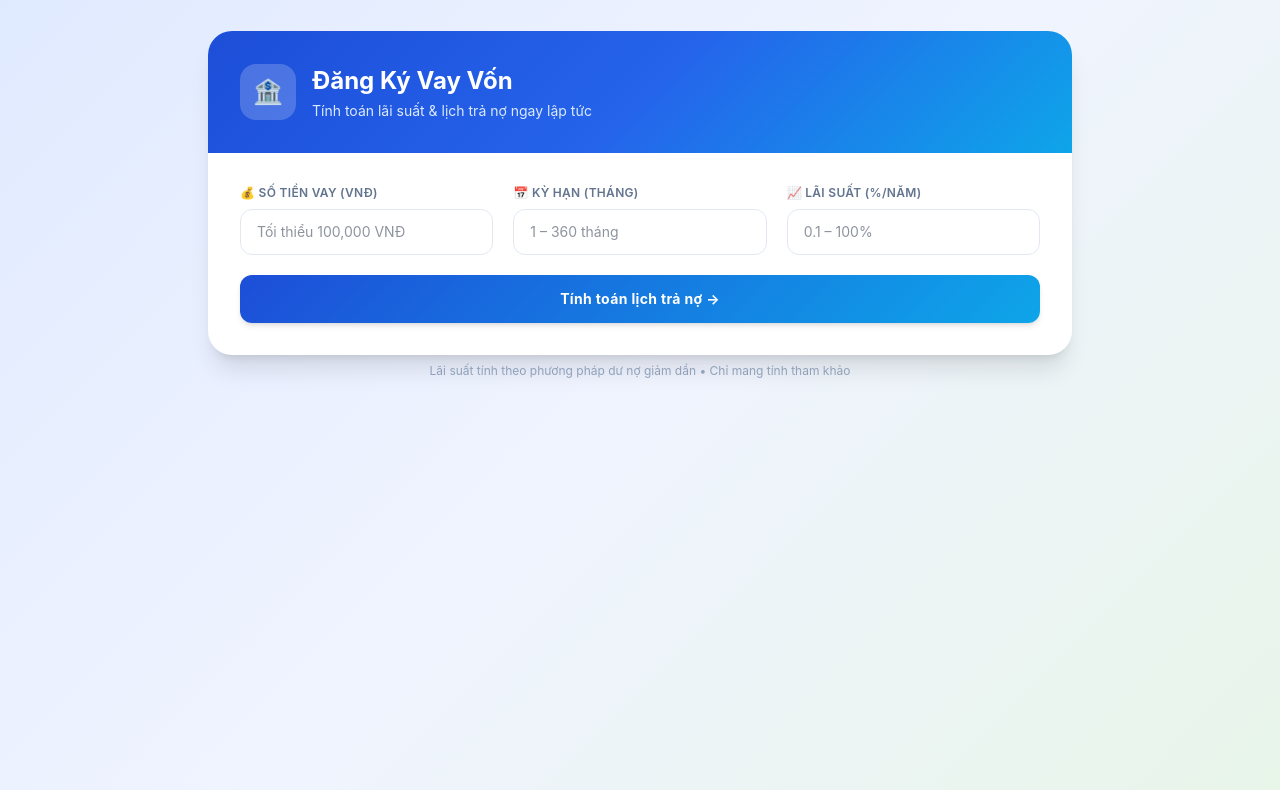
Test case: LoanRegistrationForm — schedule table › renders the payment schedule table after a valid submission
The image size is (1280, 790).
Type "12000000" into the field labelled "💰 Số tiền vay (VNĐ)" at (367, 232), box [240,209,493,255]
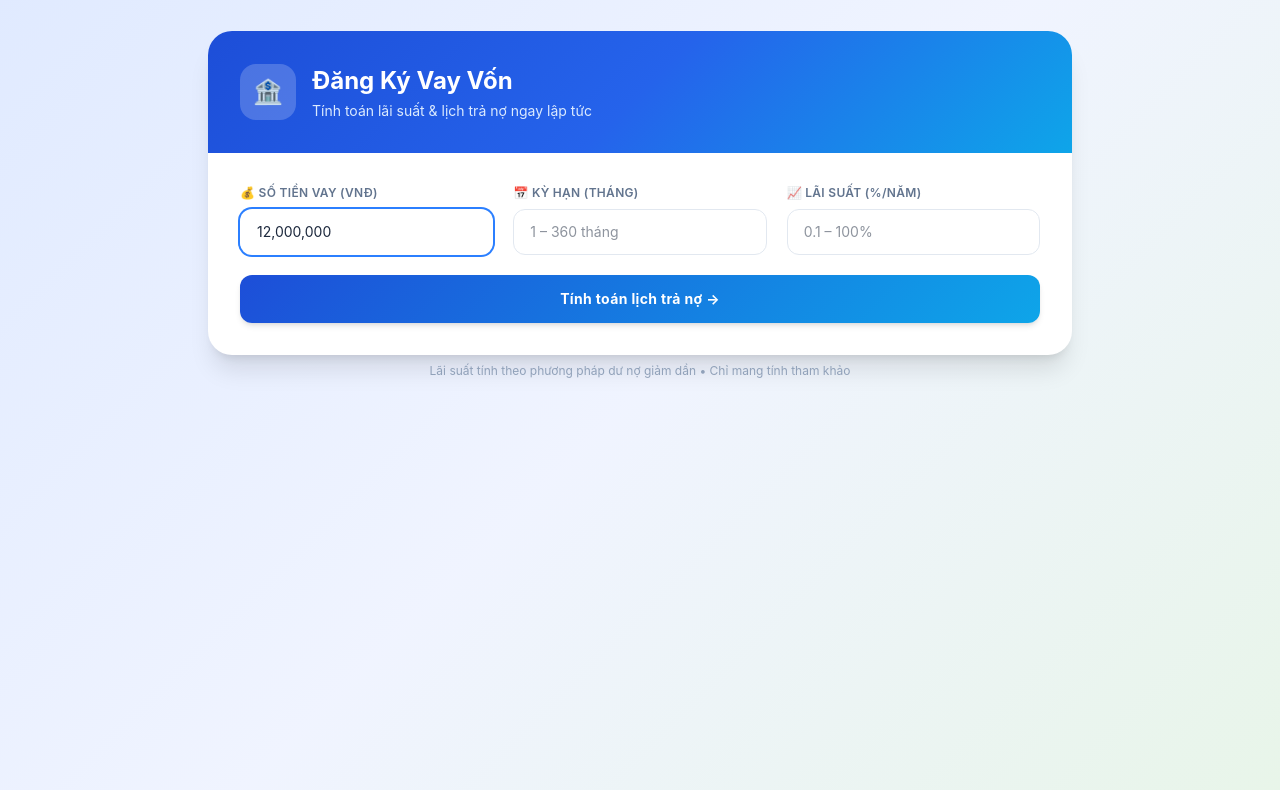
Type "12" into the number field labelled "📅 Kỳ hạn (tháng)" at (640, 232), box [513,209,767,255]
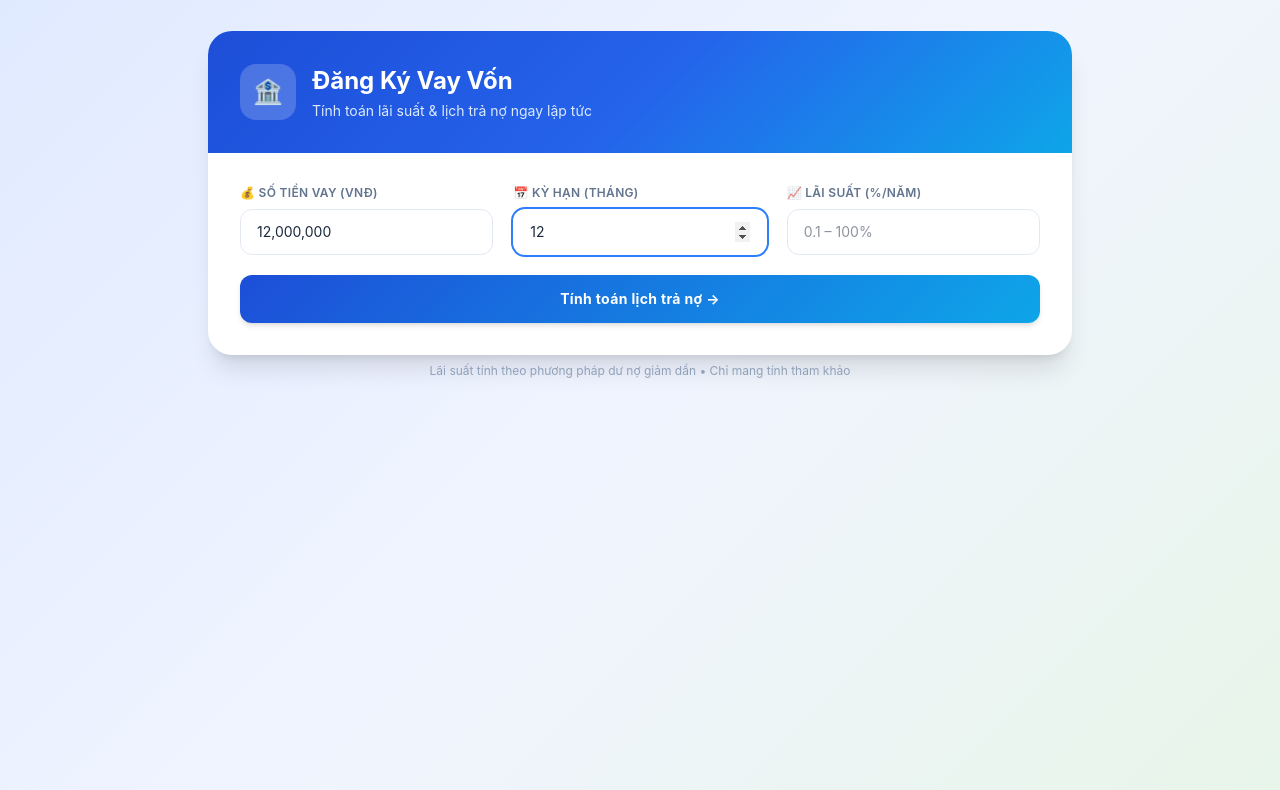
Type "12" into the number field labelled "📈 Lãi suất (%/năm)" at (913, 232), box [787,209,1040,255]
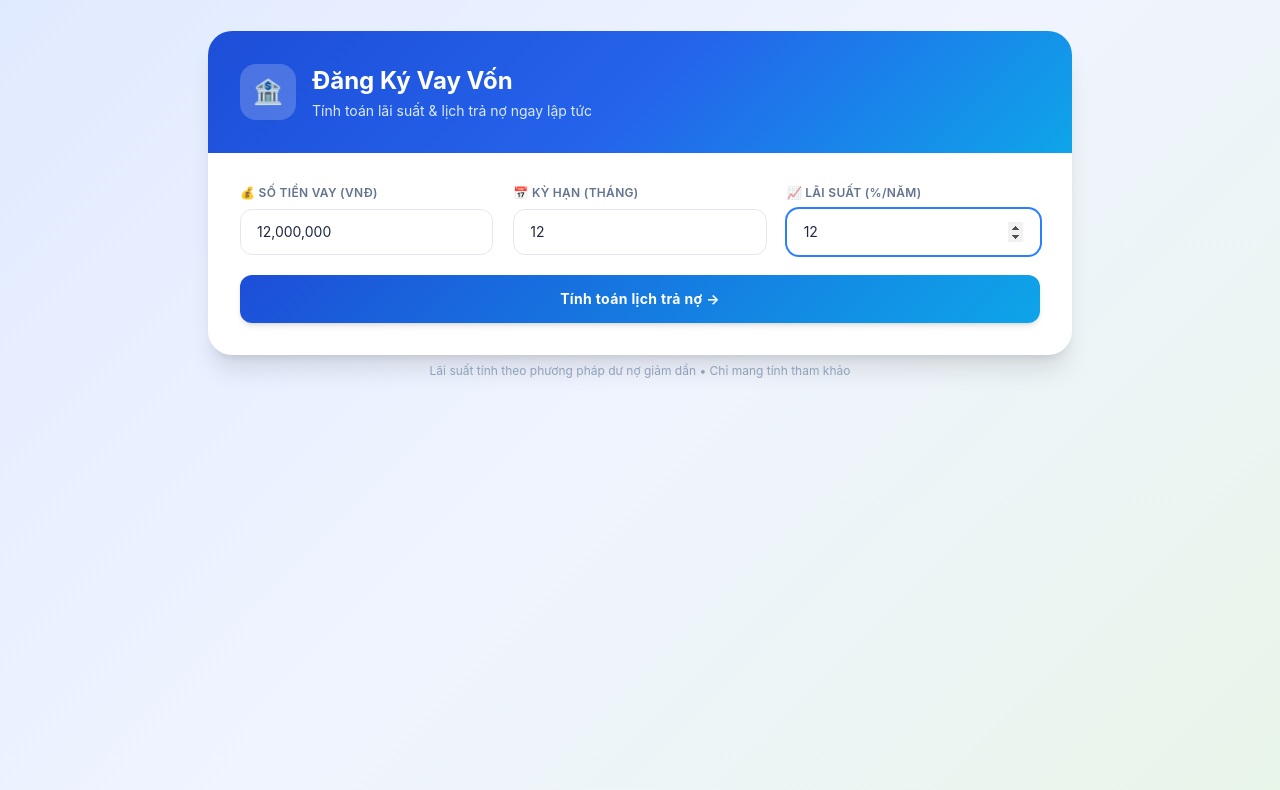
Click the button "Tính toán lịch trả nợ →" at (640, 299), box [240,275,1040,323]
(page scrolled)
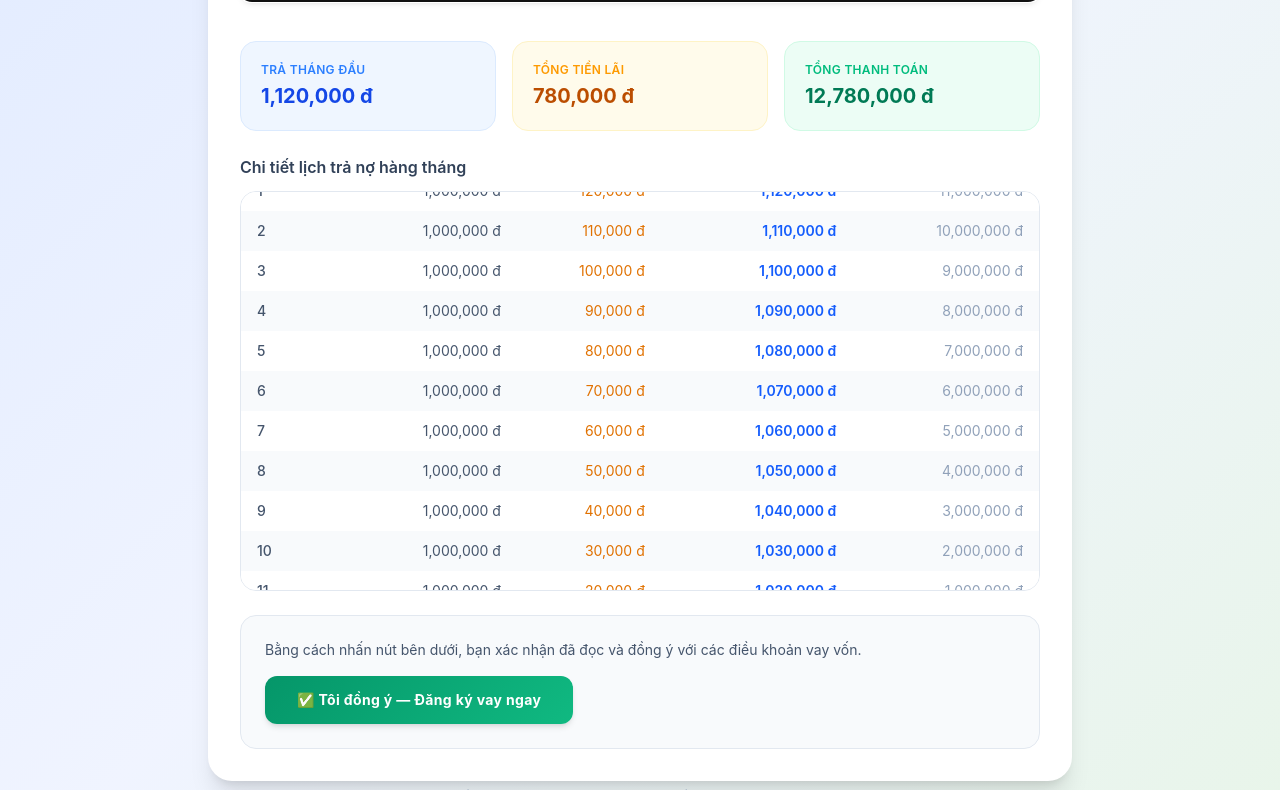
Check: the table is shown, box [241,191,1039,591]
